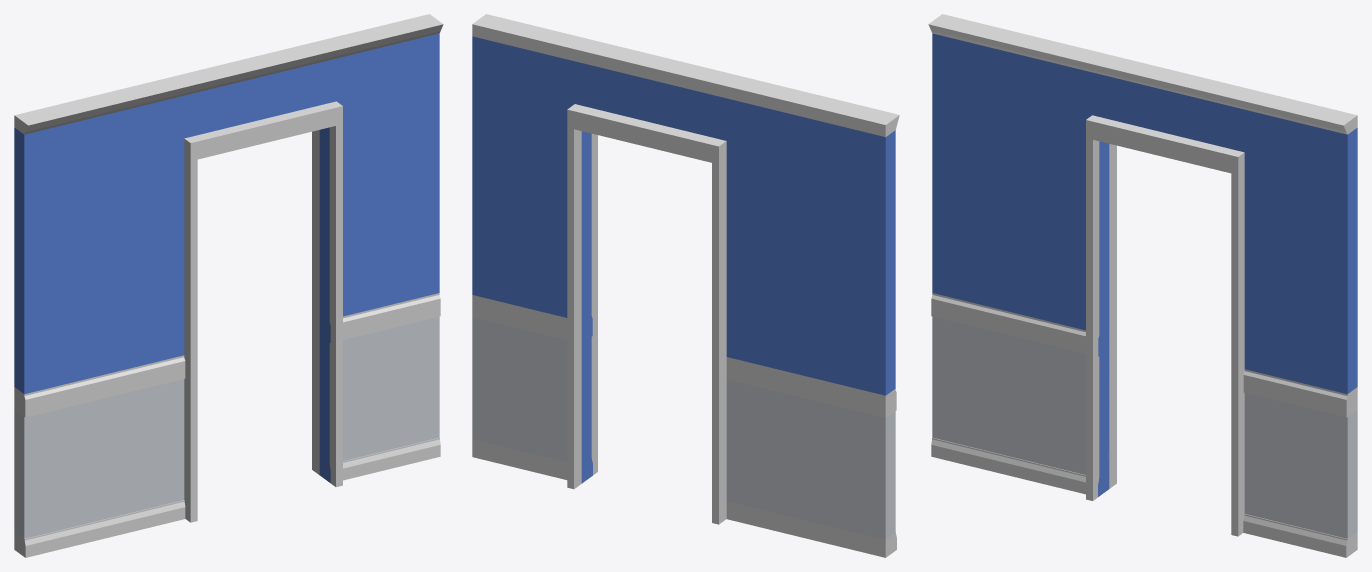
File: blenderWallWithDoor.fbx
3 views of the same model, side by side, from view 1: azimuth 30°, elevation 25°; view 2: azimuth 150°, elevation 25°; view 3: azimuth 330°, elevation 25° (orthographic).
Visible parts, largest first — view 1: WallDoor, DoorFrame; view 2: WallDoor, DoorFrame; view 3: WallDoor, DoorFrame.
Part boxes in pixels (box(x1,y1,x2,y2)): WallDoor: box(14, 14, 443, 557); DoorFrame: box(184, 101, 342, 522); WallDoor: box(472, 14, 899, 557); DoorFrame: box(567, 104, 726, 524); WallDoor: box(928, 14, 1357, 557); DoorFrame: box(1086, 115, 1244, 536).
Size of the model in its own units: 244 by 244 by 24.43.
